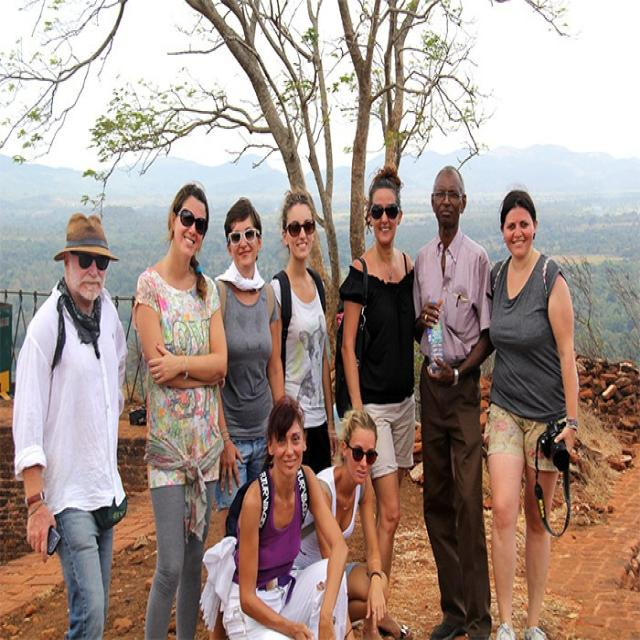body: (13, 204, 132, 639), (403, 164, 501, 638), (130, 177, 229, 637), (481, 185, 580, 639), (333, 164, 426, 640), (220, 393, 350, 640), (208, 193, 288, 513), (295, 398, 395, 638), (269, 186, 340, 477)
